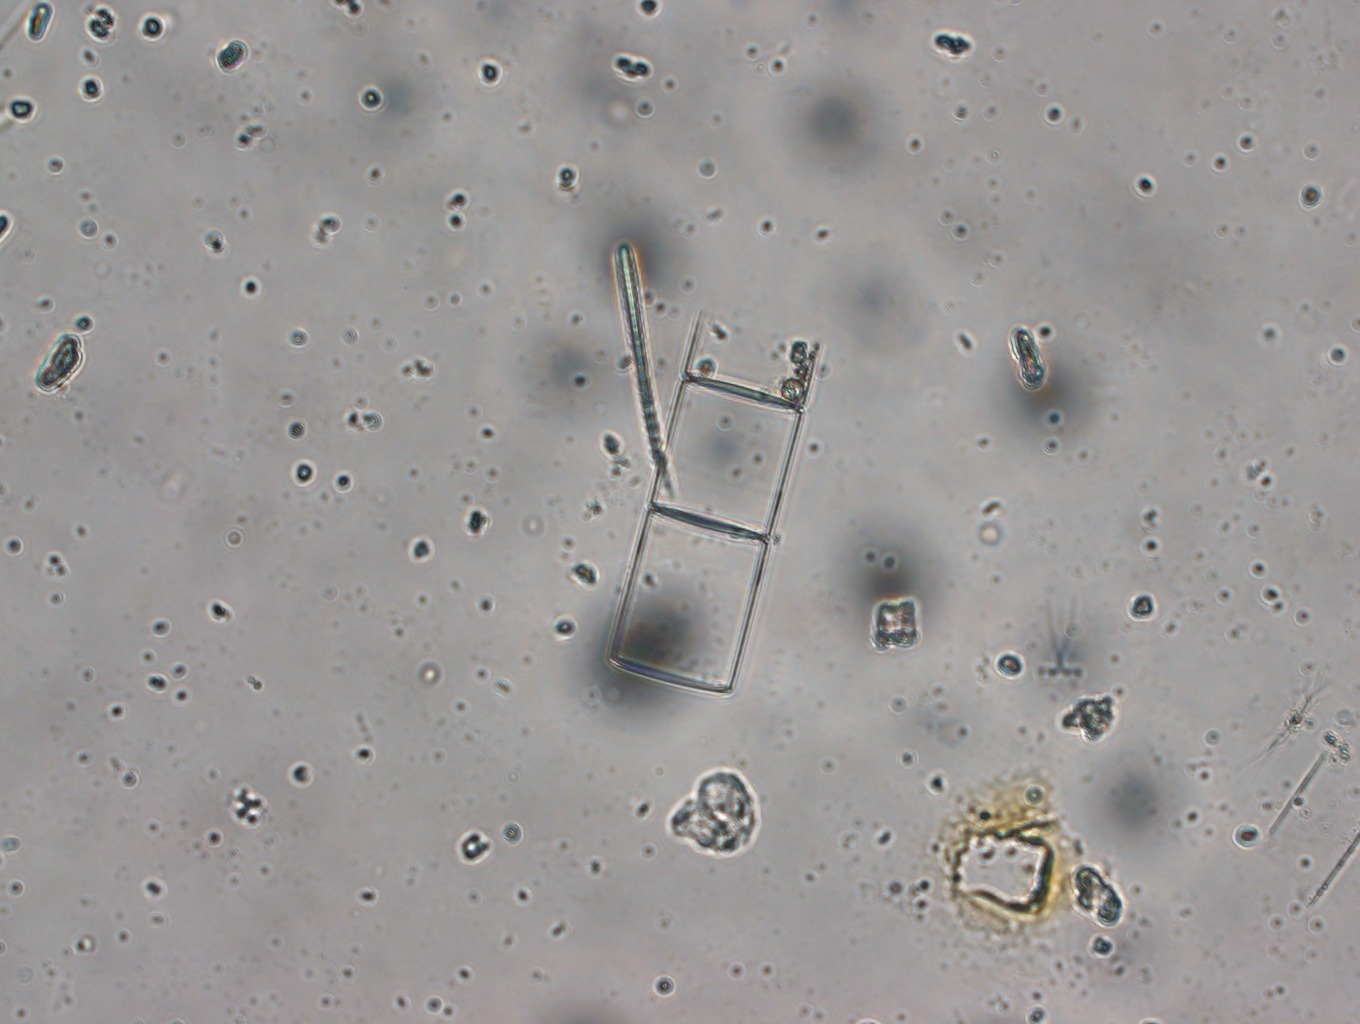guinardia flaccida: (609, 313, 821, 694)
